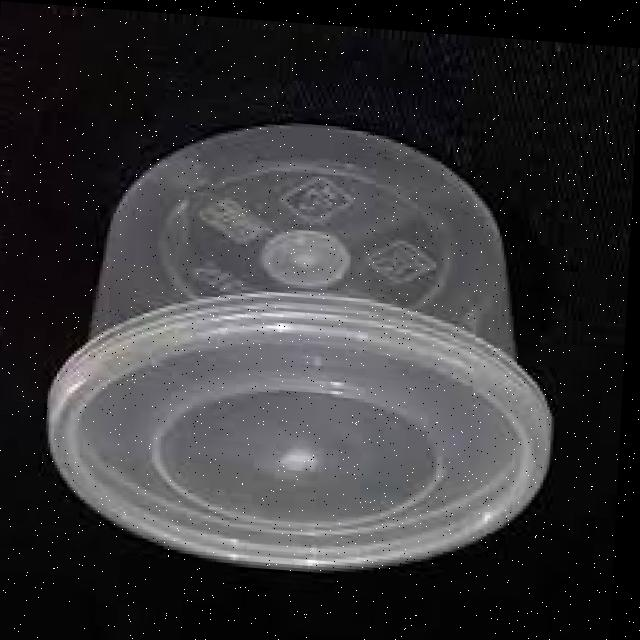disposable: (29, 80, 577, 612)
